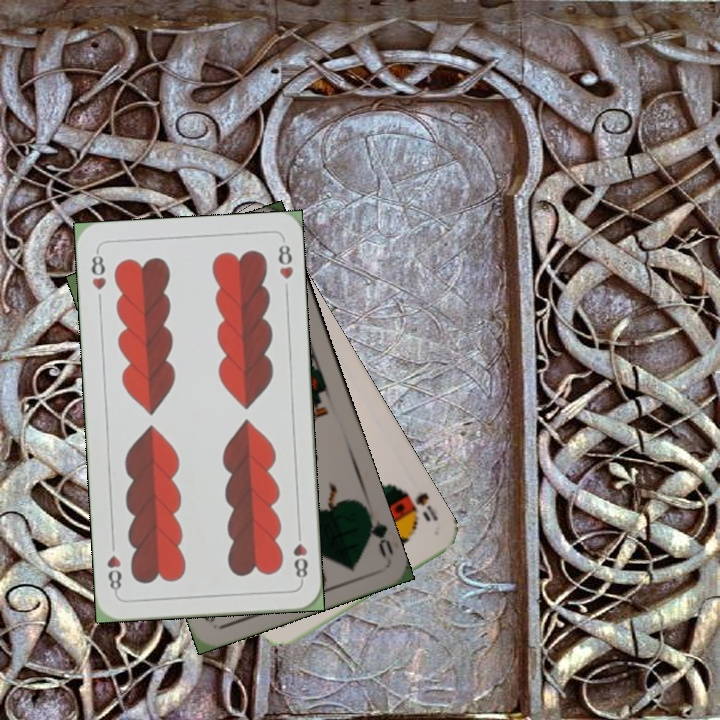GO: (362, 505, 396, 561)
H8: (289, 526, 310, 585), (87, 247, 109, 293)
SO: (411, 488, 441, 525)
